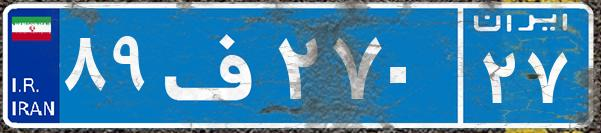0: (385, 28, 445, 110)
2: (273, 28, 330, 110), (475, 38, 525, 113)
7: (330, 28, 385, 110), (525, 38, 570, 115)
8: (57, 26, 110, 107)
9: (110, 28, 158, 105)
ف: (158, 15, 273, 115)
